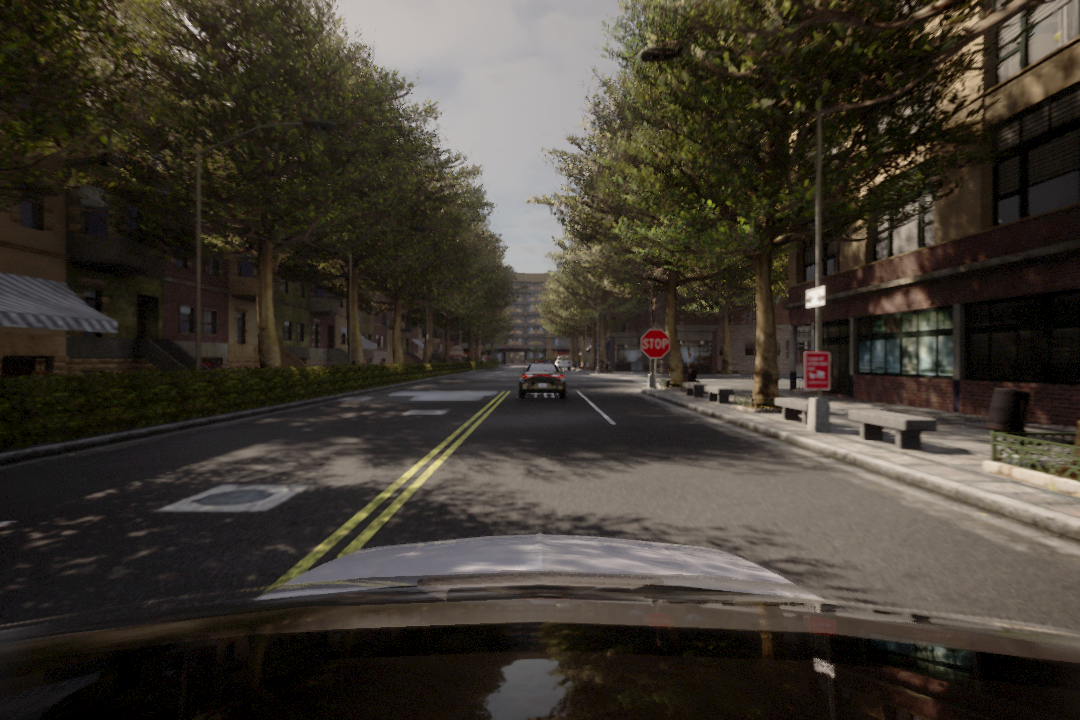TrafficSign_stop: (637, 327, 673, 362)
